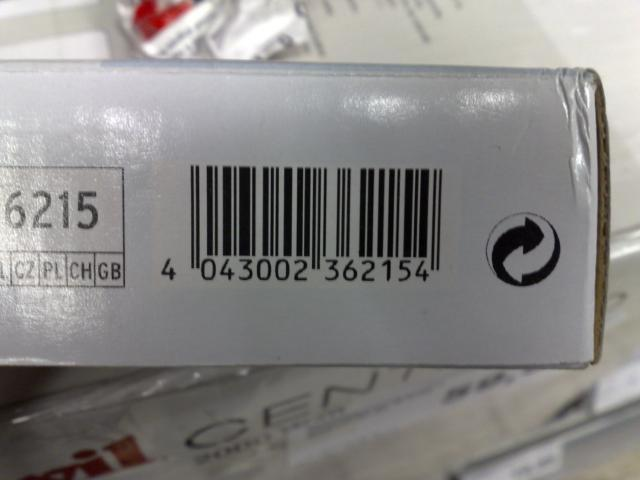Barcode: (152, 157, 462, 298)
